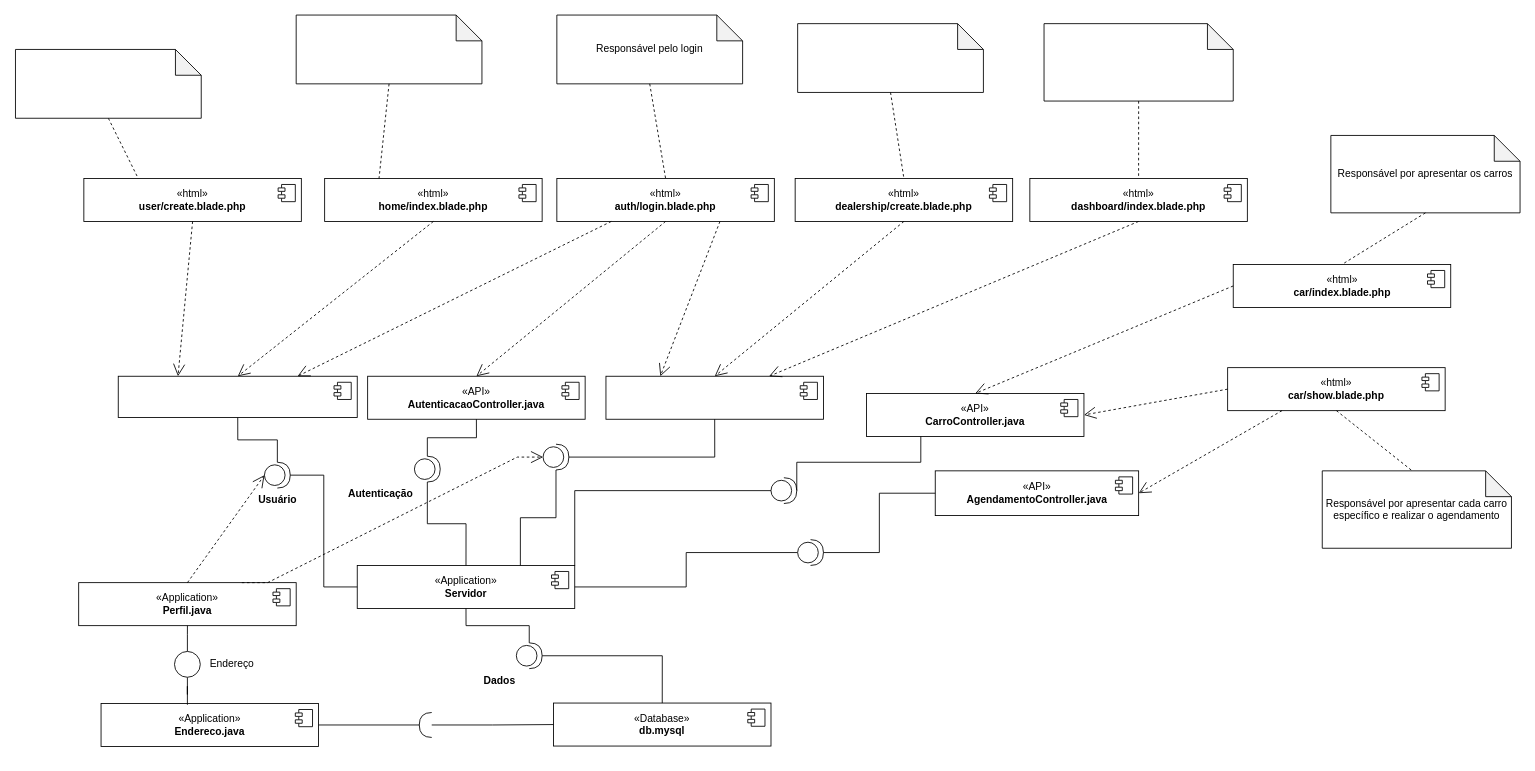
The diagram is 1535 pixels wide and 771 high, and some of its shapes have lost their labels. The shapes that lost their labels are listed below. From the top down, each one's centre as x and y in pixels, then its label:
the point at 388,49: Responsável pela home do usuário
the point at 890,57: Responsável pela criação da concessionária
the point at 1138,62: Responsável pela dashboard da concessionária
the point at 108,83: Responsável pela criação do usuário
the point at 237,396: «API» UsuarioController.java
the point at 714,397: «API» ConcessionariaController.java
the point at 555,456: Concessionária
the point at 783,490: Carro
the point at 810,552: Agendamento
the point at 425,724: Enredeço
